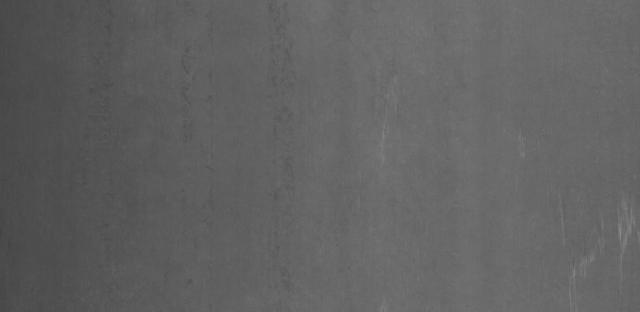silk_spot: (539, 186, 640, 289)
